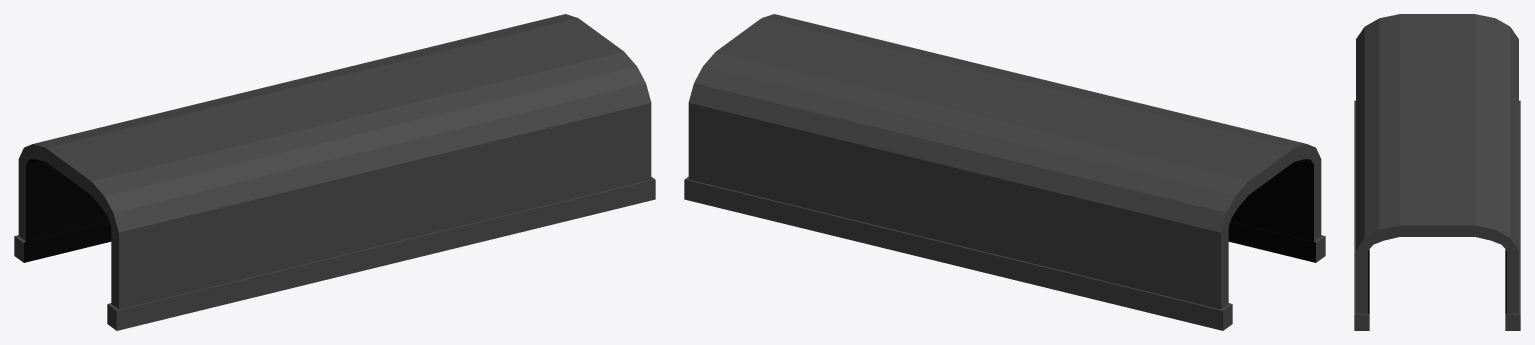
File: Road_Underground.fbx
3 views of the same model, side by side, from view 1: azimuth 30°, elevation 25°; view 2: azimuth 150°, elevation 25°; view 3: azimuth 270°, elevation 25° (orthographic). The views are drawn at different scales.
Parts seen in each view (by area): view 1: Cube; view 2: Cube; view 3: Cube.
Boxes of the visible parts, x1,y1,x2,y2 form: Cube: (14, 14, 655, 330); Cube: (684, 14, 1325, 330); Cube: (1354, 14, 1520, 330).
Bounding box in the file's own units: 1177 × 267 × 387.
2 materials, 2 textured.
